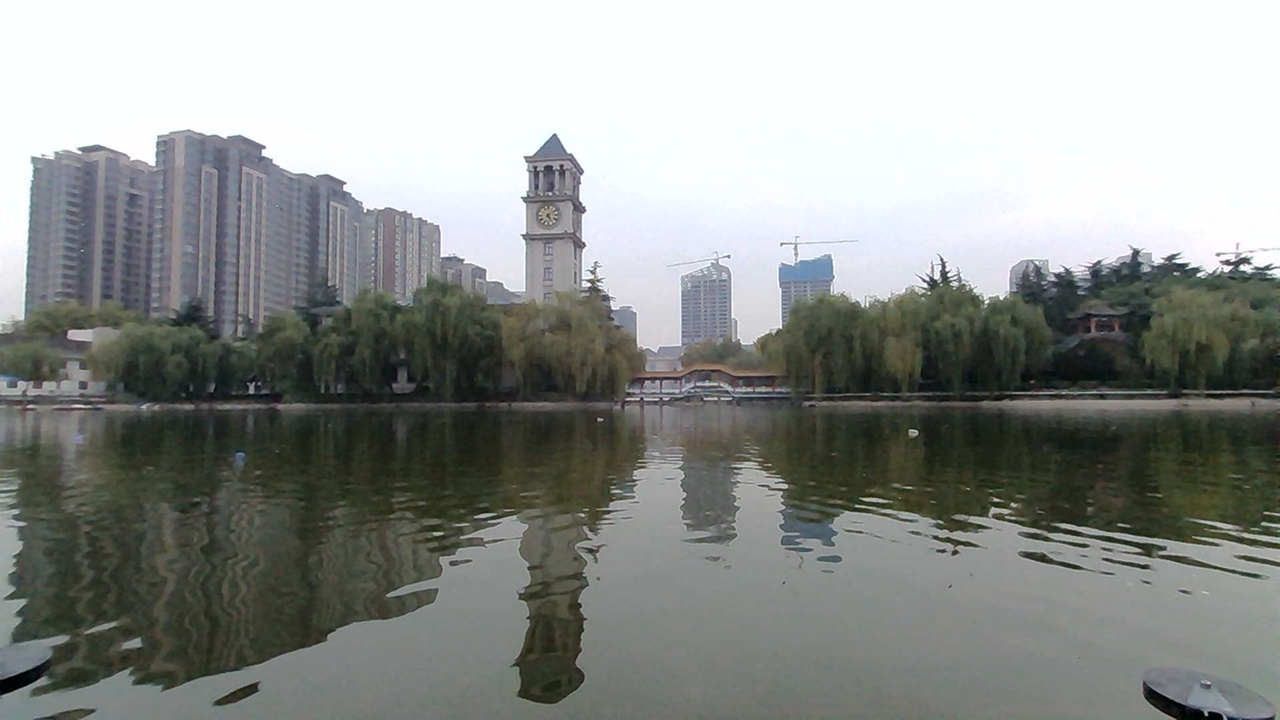bottle: (73, 417, 106, 449), (225, 442, 262, 470), (896, 419, 928, 448)
